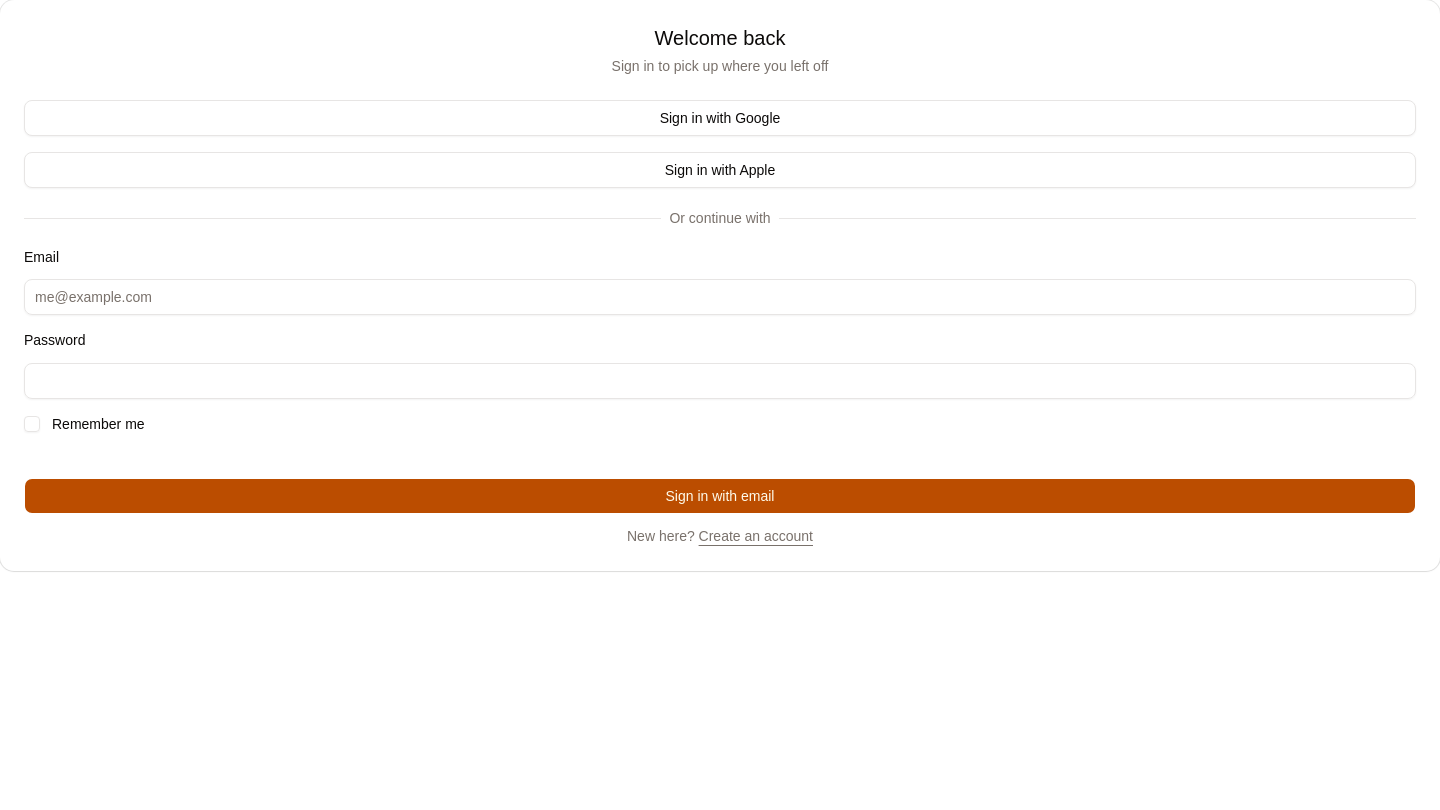
Test: LoginForm › shows the message for an unrelated 403 instead of routing away
In the field labelled "Email": [720, 297] box [24, 279, 1416, 315], type "user@example.com"
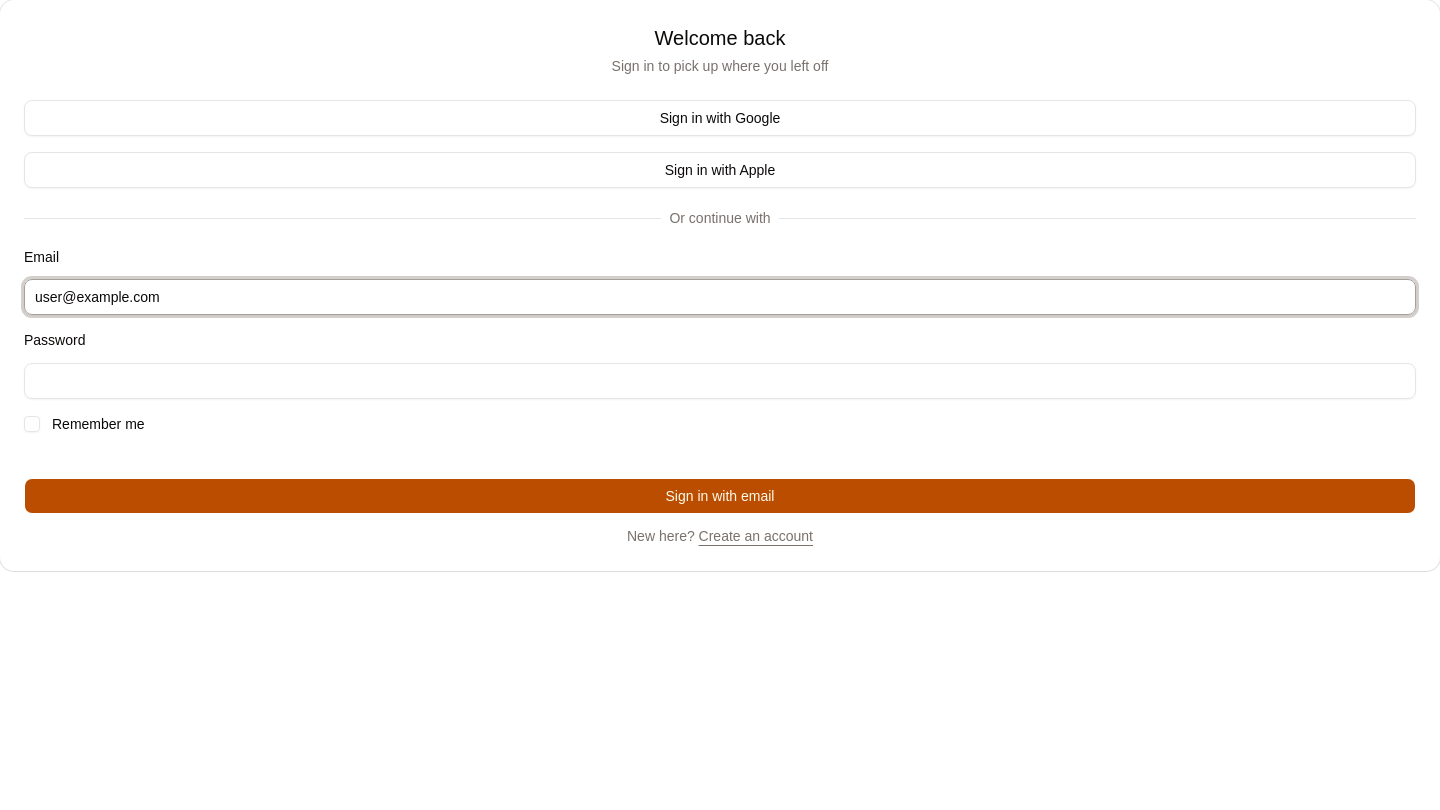
In the password field labelled "Password": [720, 380] box [24, 362, 1416, 398], type "password123"
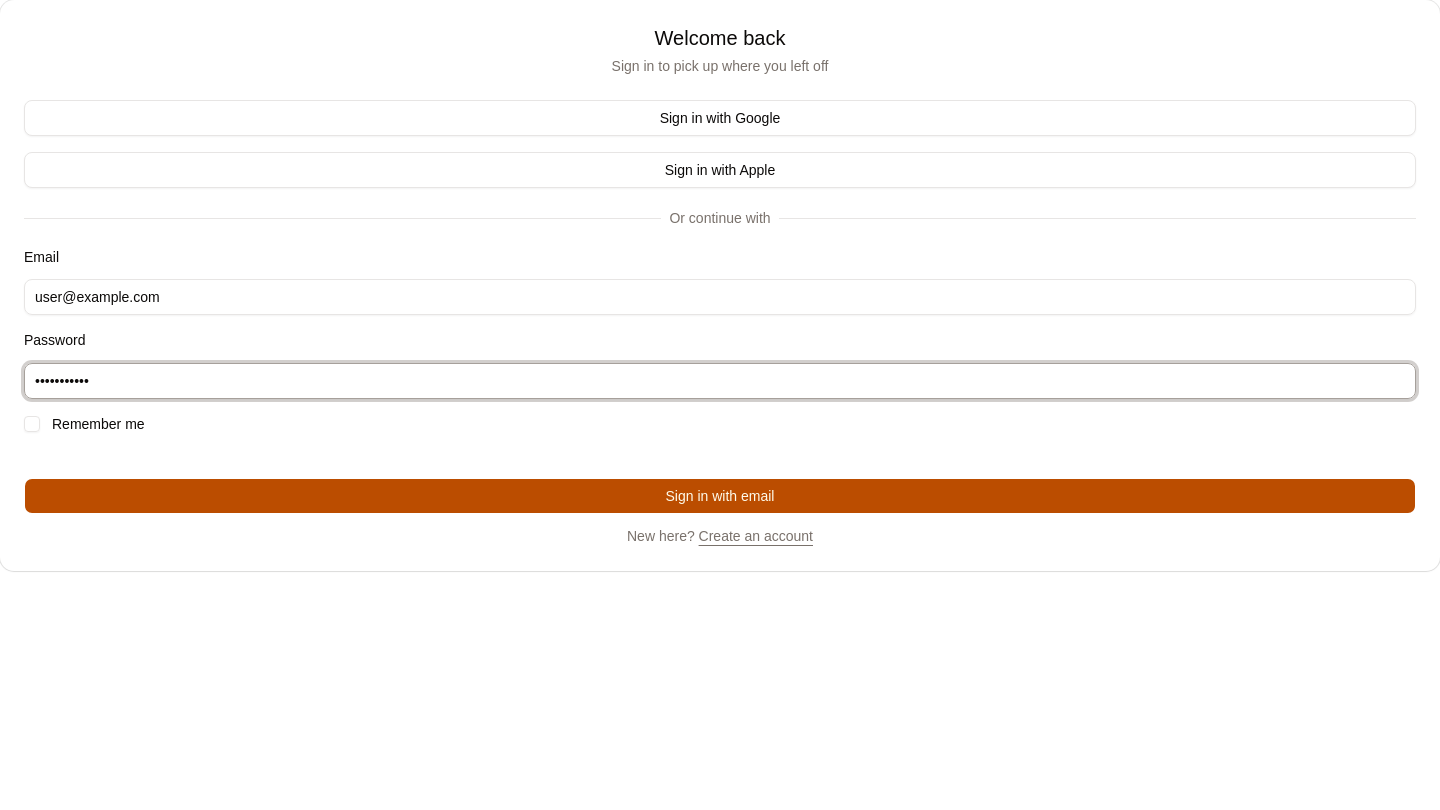
Click the button "Sign in with email": [720, 496] box [24, 478, 1416, 514]
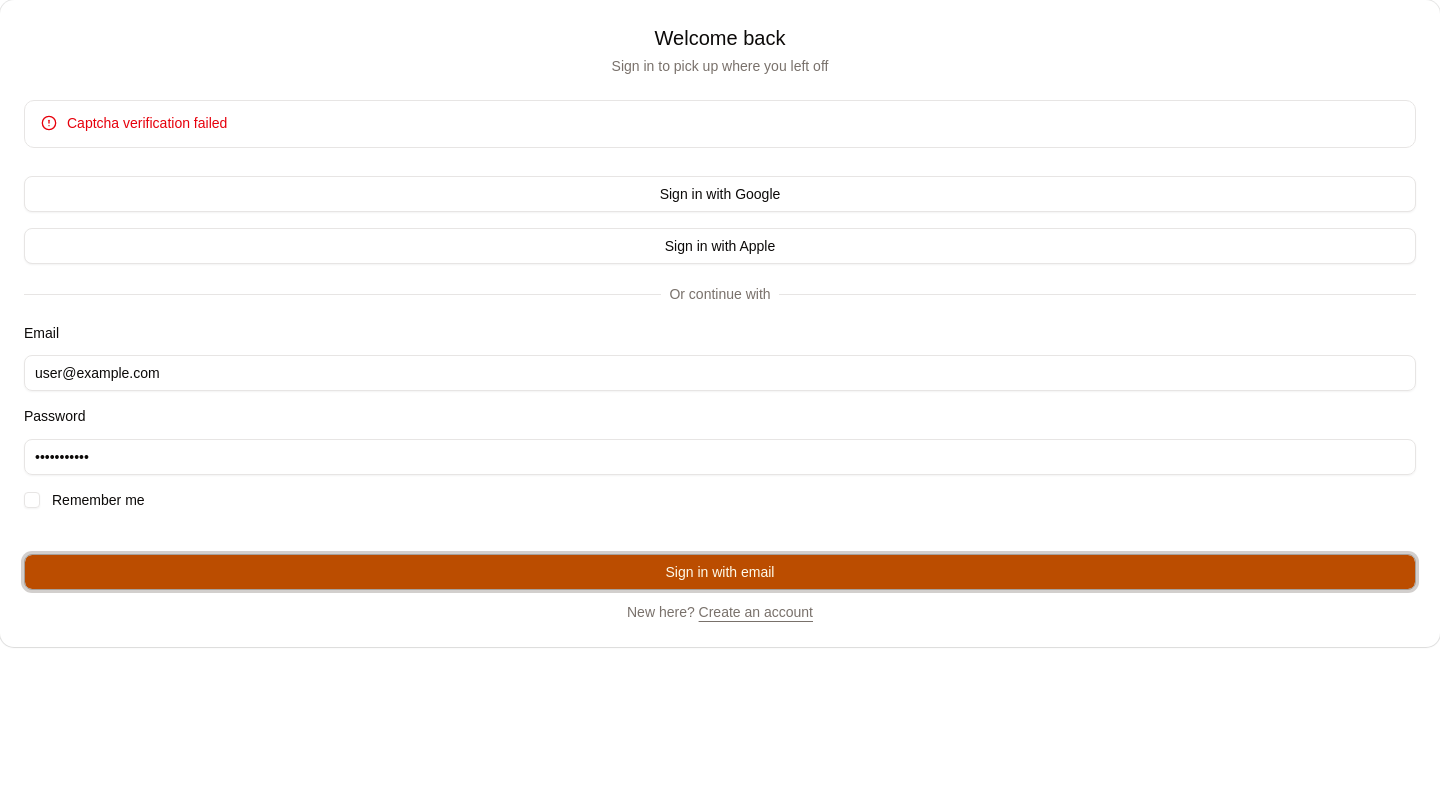
Check: the text "Captcha verification failed" is shown, box [67, 115, 227, 131]
